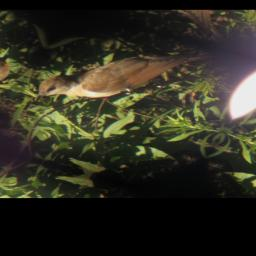Cuckoo: (28, 16, 222, 135)
